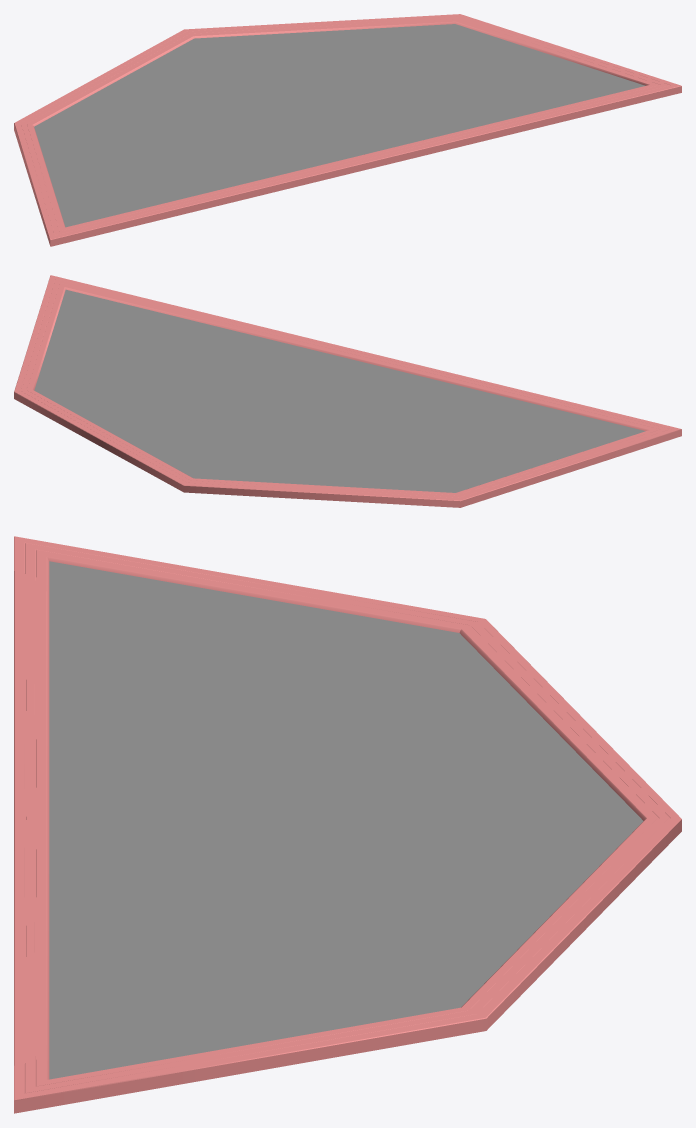
Rendered from MoonBaboon_MovingFloor_Gate_01.gltf.
3 views of the same model, one above another, from view 1: azimuth 30°, elevation 25°; view 2: azimuth 150°, elevation 25°; view 3: azimuth 270°, elevation 25° (orthographic). The views are drawn at different scales.
Visible parts, largest first — view 1: MoonBaboon_MovingFloor_Gate_01; view 2: MoonBaboon_MovingFloor_Gate_01; view 3: MoonBaboon_MovingFloor_Gate_01.
Part boxes in pixels (x1,y1,x2,y2): MoonBaboon_MovingFloor_Gate_01: (14,14,681,246); MoonBaboon_MovingFloor_Gate_01: (14,275,681,507); MoonBaboon_MovingFloor_Gate_01: (14,536,681,1113).
Bounding box in the file's own units: 48.9 × 0.528 × 24.45.
